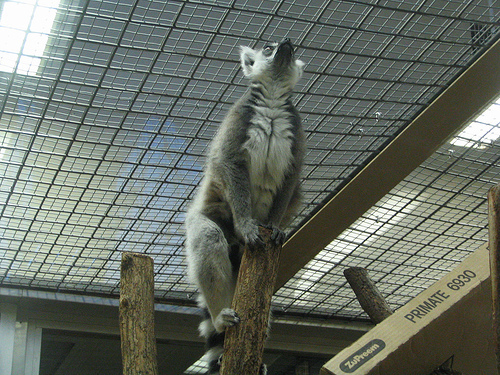cat: (185, 36, 306, 373)
